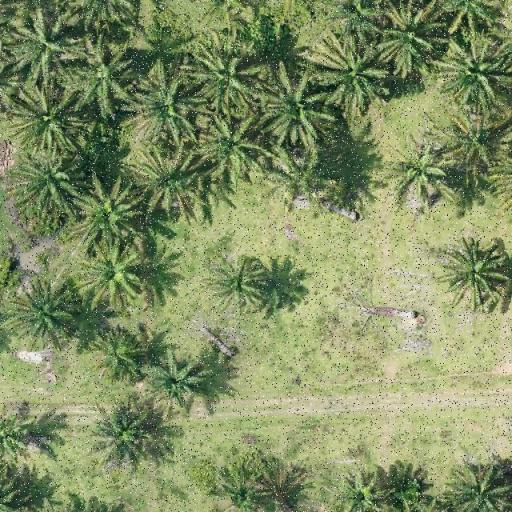Ganoderma: (449, 251, 502, 301), (88, 248, 137, 294), (396, 149, 444, 195)
